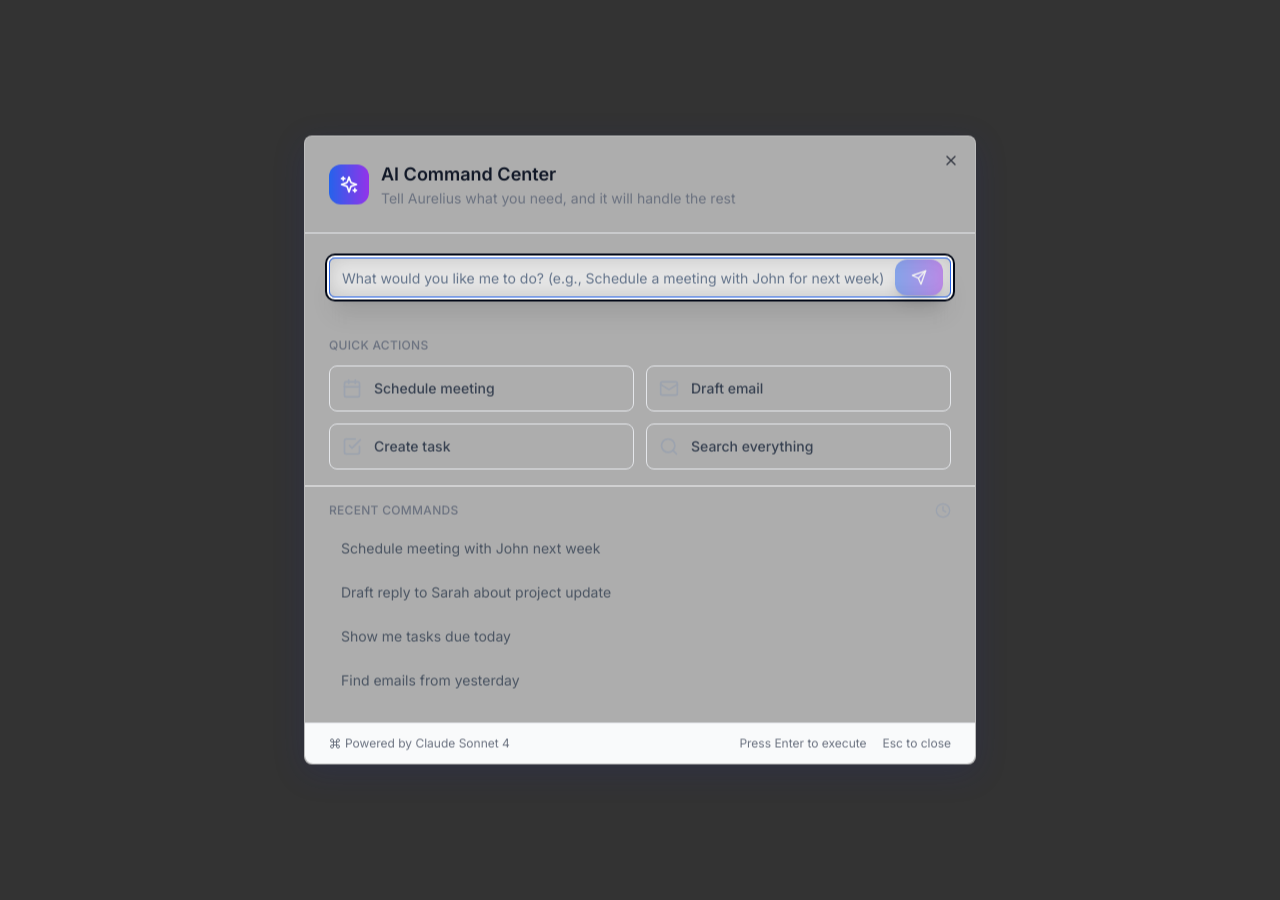
Scenario: CommandModal › handles recent command clicks
Step 1. Click the button "Schedule meeting with John next week" → (471, 548), box [329,530,951,566]
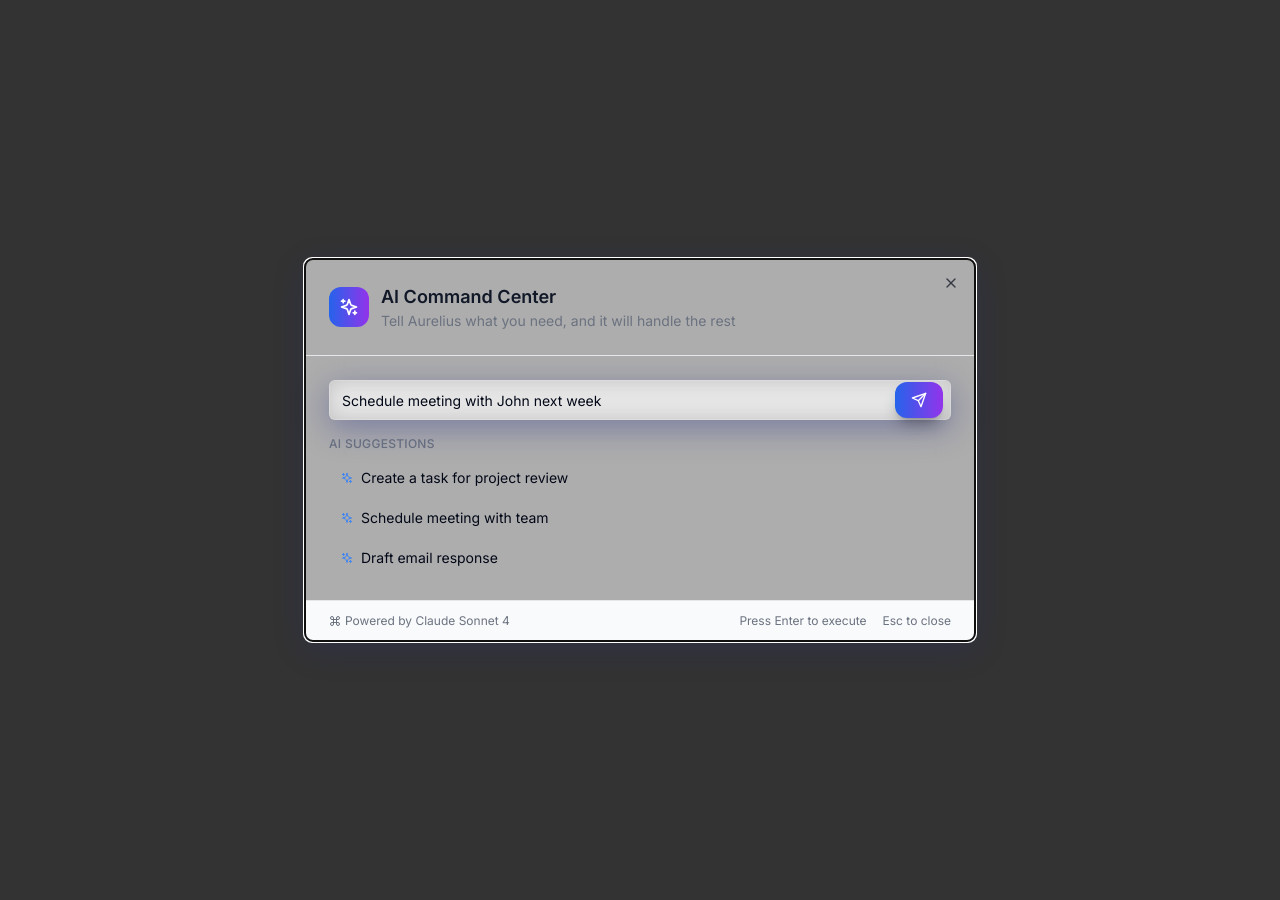
Expected: the field with placeholder "What would you like me to do" holds "Schedule meeting with John next week", [329,380,951,420]
